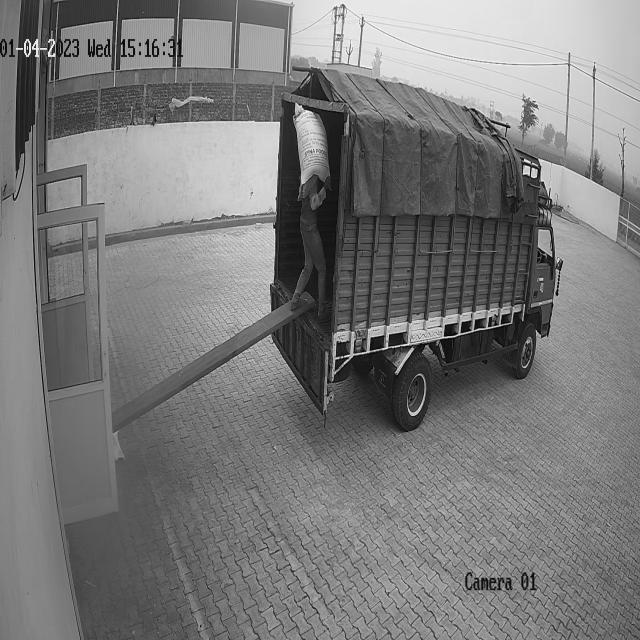sack: (293, 103, 331, 184)
